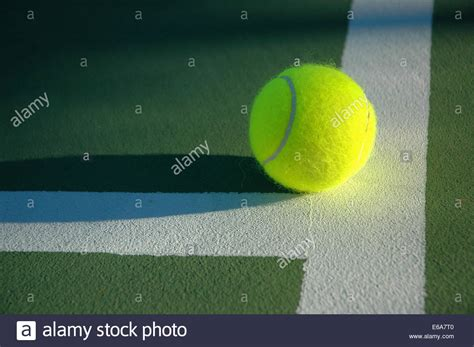tennis_ball: (248, 63, 375, 192)
